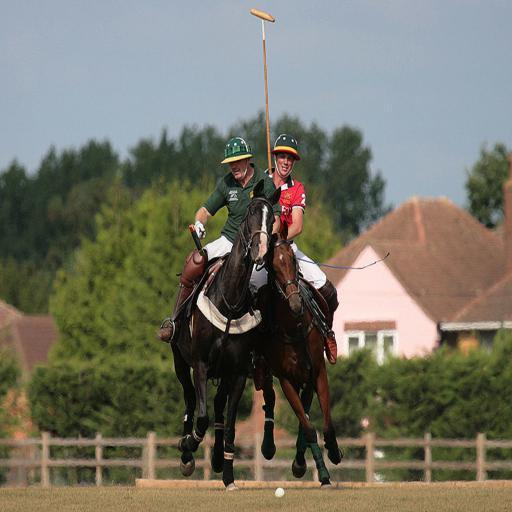horse: (172, 178, 282, 492), (259, 219, 346, 486)
